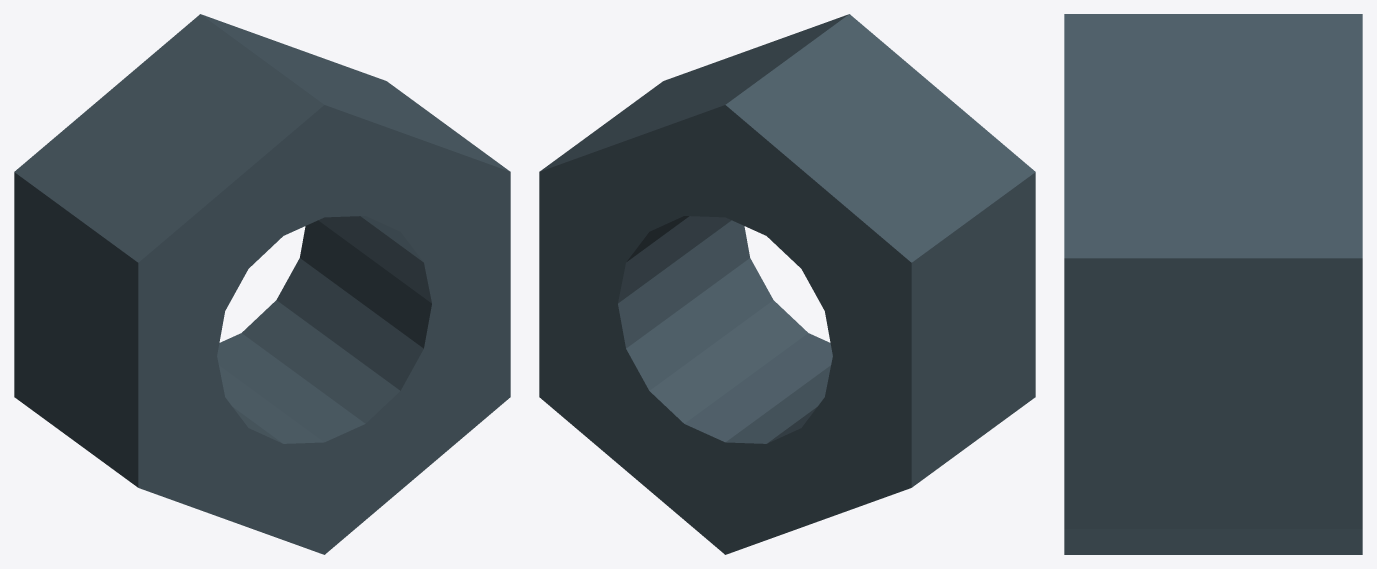
File: kit_nut_4.obj
3 renders of one model, left to right at view 1: azimuth 30°, elevation 25°; view 2: azimuth 150°, elevation 25°; view 3: azimuth 270°, elevation 25°, orthographic. The views are drawn at different scales.
Parts seen in each view (by area): view 1: kit_nut_4; view 2: kit_nut_4; view 3: kit_nut_4.
Part boxes in pixels (x1,y1,x2,y2): kit_nut_4: [14, 14, 510, 554]; kit_nut_4: [539, 14, 1035, 554]; kit_nut_4: [1064, 14, 1362, 554].
Size of the model in its own units: 0.00693 by 0.008 by 0.004.
